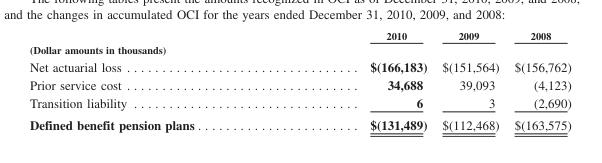table: (28, 29, 570, 132)
table column: (28, 29, 284, 132), (284, 29, 434, 132), (434, 29, 506, 132), (506, 29, 570, 132)
table column header: (28, 29, 570, 42)
table projected row header: (28, 42, 570, 57)
table row: (28, 93, 570, 113), (28, 113, 570, 132), (28, 57, 570, 75), (28, 75, 570, 93), (28, 42, 570, 57), (28, 29, 570, 42)
